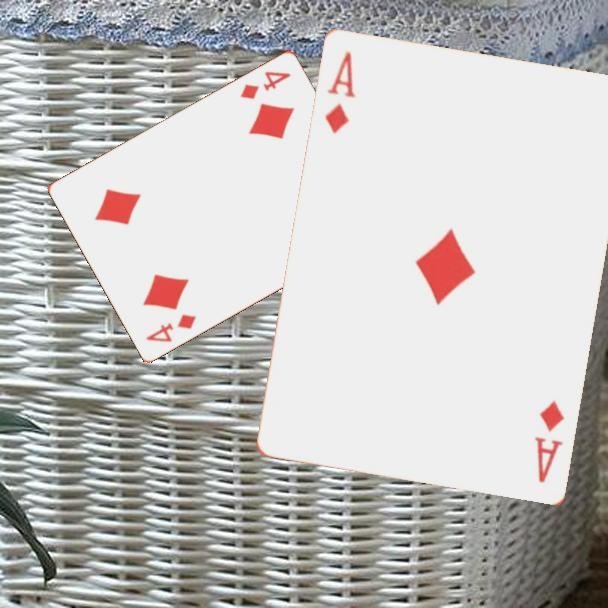d01: (531, 397, 568, 487), (322, 48, 359, 137)
d04: (237, 67, 294, 102), (143, 310, 199, 345)
